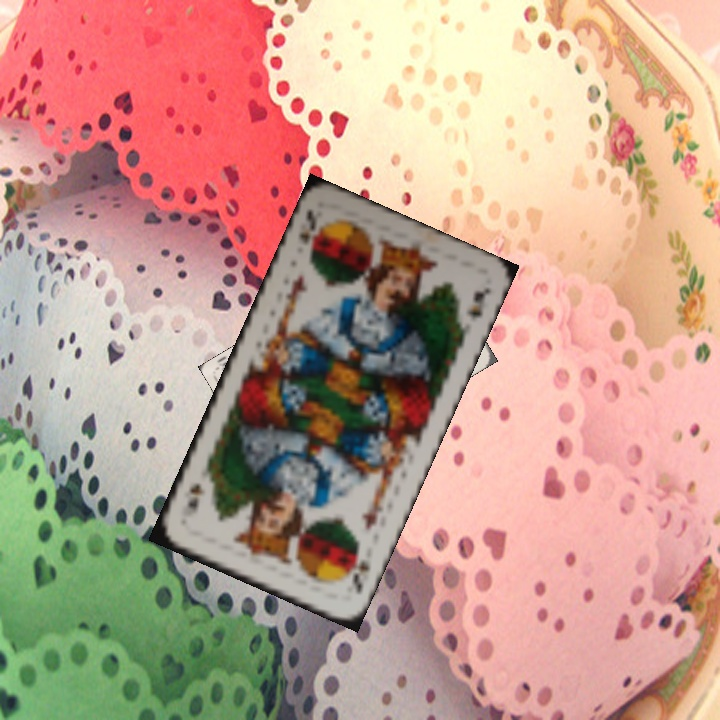SK: (343, 542, 373, 597), (294, 205, 324, 258)
